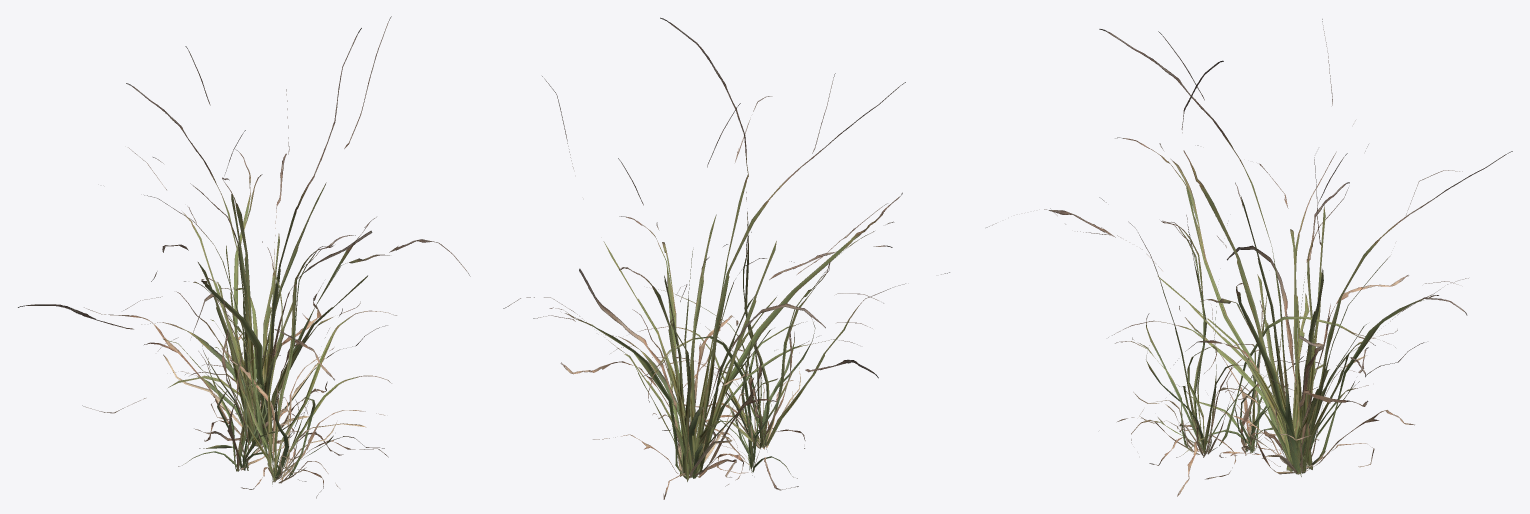
3 views of the same model, side by side, from view 1: azimuth 30°, elevation 25°; view 2: azimuth 150°, elevation 25°; view 3: azimuth 270°, elevation 25° (orthographic). The views are drawn at different scales.
Parts seen in each view (by area): view 1: grass_medium_02_e, grass_medium_02_c, grass_medium_02_a; view 2: grass_medium_02_e, grass_medium_02_c, grass_medium_02_a; view 3: grass_medium_02_e, grass_medium_02_c, grass_medium_02_a.
Boxes of the visible parts, bbox=[...] form: grass_medium_02_e: bbox=[18, 16, 470, 465]; grass_medium_02_c: bbox=[185, 241, 396, 498]; grass_medium_02_a: bbox=[178, 328, 306, 481]; grass_medium_02_e: bbox=[503, 17, 905, 499]; grass_medium_02_c: bbox=[639, 192, 949, 449]; grass_medium_02_a: bbox=[662, 326, 797, 478]; grass_medium_02_e: bbox=[986, 19, 1512, 476]; grass_medium_02_c: bbox=[1099, 197, 1395, 496]; grass_medium_02_a: bbox=[1176, 294, 1311, 457].
Size of the model in its own units: 0.3556 by 0.4032 by 0.4332.
1 material, 1 textured.
